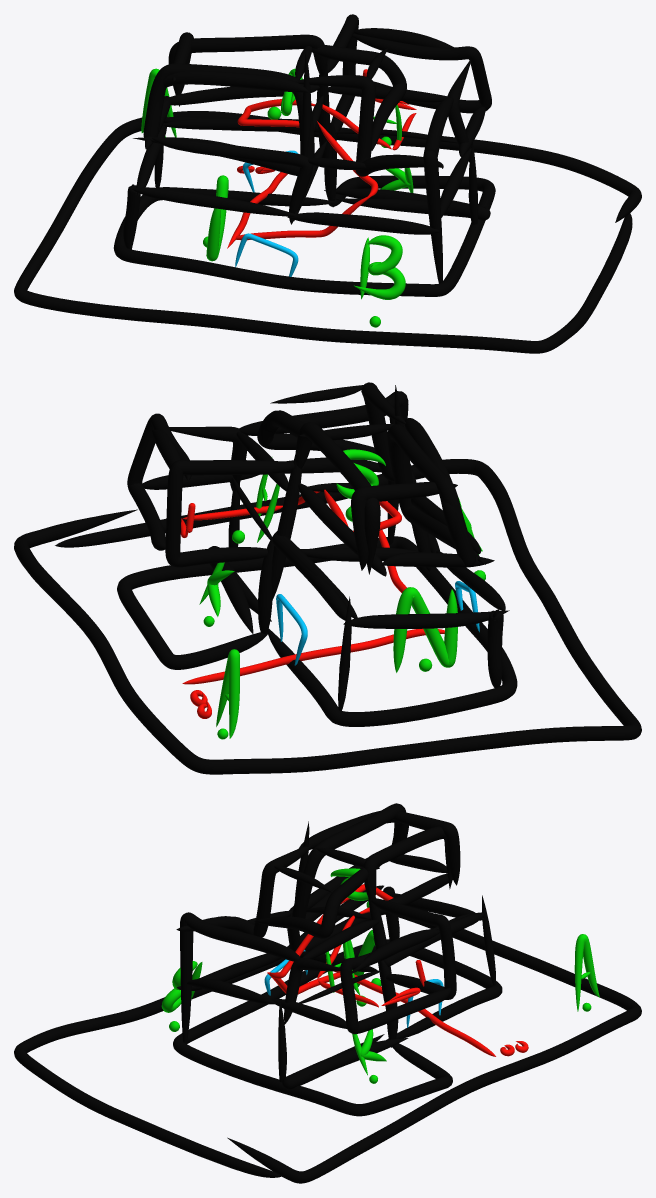
3 views of the same model, one above another, from view 1: azimuth 30°, elevation 25°; view 2: azimuth 150°, elevation 25°; view 3: azimuth 270°, elevation 25° (orthographic). The views are drawn at different scales.
Visible parts, largest first — view 1: s.0019, s.0020, s.0040, s.0046, s.0029, s.0036, s.0042, s.0045, s.0053, s.0047, s.0050, s.0027 (+23 smaller); view 2: s.0019, s.0020, s.0040, s.0028, s.0042, s.0029, s.0070, s.0041, s.0045, s.0025, s.0024, s.0047 (+23 smaller); view 3: s.0019, s.0020, s.0040, s.0045, s.0028, s.0029, s.0046, s.0047, s.0042, s.0053, s.0041, s.0052 (+17 smaller).
Boxes of the visible parts, left/top/right/bottom form: s.0019: left=14, top=111, right=641, bottom=353; s.0020: left=113, top=175, right=495, bottom=296; s.0040: left=133, top=63, right=314, bottom=175; s.0046: left=295, top=75, right=443, bottom=176; s.0029: left=352, top=34, right=491, bottom=113; s.0036: left=152, top=137, right=312, bottom=224; s.0042: left=168, top=34, right=326, bottom=106; s.0045: left=423, top=97, right=453, bottom=283; s.0053: left=324, top=188, right=490, bottom=220; s.0047: left=312, top=45, right=406, bottom=150; s.0050: left=287, top=212, right=439, bottom=234; s.0027: left=132, top=187, right=296, bottom=216; s.0019: left=14, top=459, right=641, bottom=774; s.0020: left=117, top=536, right=517, bottom=726; s.0040: left=387, top=418, right=485, bottom=566; s.0028: left=165, top=460, right=294, bottom=567; s.0042: left=295, top=422, right=380, bottom=574; s.0029: left=127, top=413, right=191, bottom=550; s.0070: left=393, top=587, right=457, bottom=672; s.0041: left=351, top=482, right=457, bottom=570; s.0045: left=239, top=391, right=408, bottom=544; s.0025: left=343, top=610, right=509, bottom=628; s.0024: left=272, top=534, right=358, bottom=620; s.0047: left=257, top=410, right=375, bottom=453; s.0019: left=14, top=911, right=641, bottom=1183; s.0020: left=173, top=939, right=502, bottom=1116; s.0040: left=292, top=803, right=408, bottom=921; s.0045: left=180, top=912, right=299, bottom=1043; s.0028: left=371, top=898, right=456, bottom=999; s.0029: left=340, top=927, right=450, bottom=1034; s.0046: left=176, top=843, right=312, bottom=937; s.0047: left=254, top=867, right=368, bottom=938; s.0042: left=363, top=826, right=452, bottom=896; s.0053: left=282, top=1034, right=408, bottom=1089; s.0041: left=393, top=811, right=460, bottom=885; s.0052: left=352, top=929, right=439, bottom=973.
Bounding box in the file's own units: 89.16 × 88.26 × 34.08.
